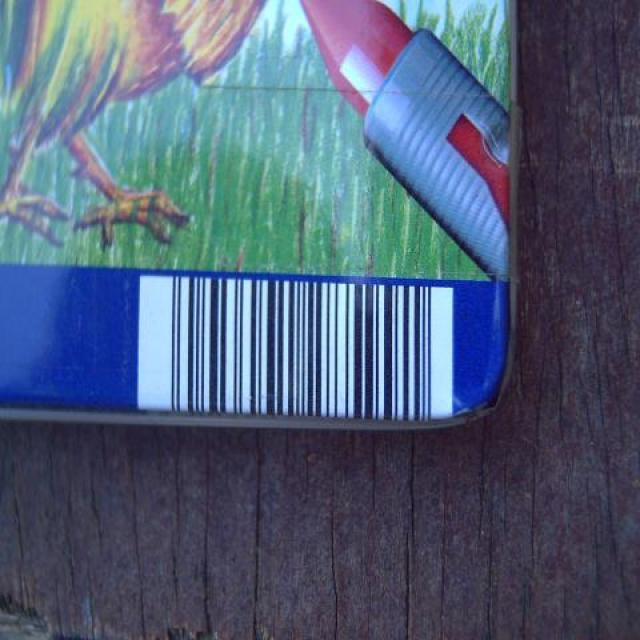Barcode: (134, 270, 458, 433)
